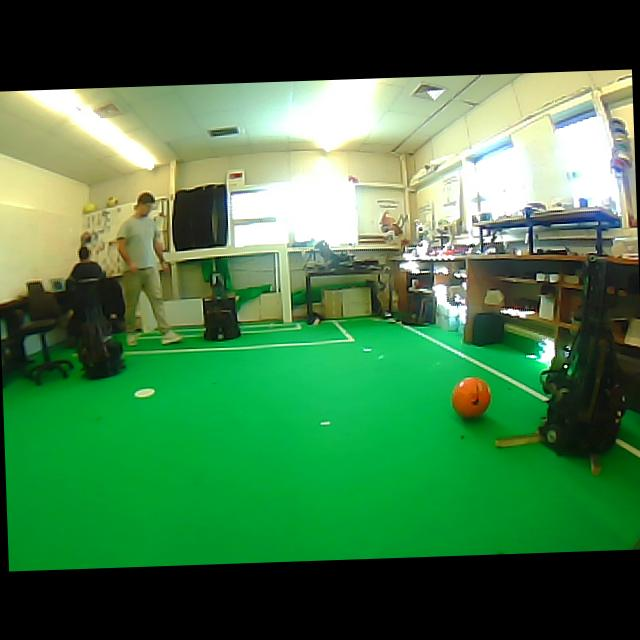ball: (451, 377, 490, 417), (82, 202, 96, 213), (106, 196, 117, 207)
goal: (278, 243, 291, 322)
robot: (539, 258, 625, 454), (203, 260, 238, 340), (77, 319, 124, 377)
